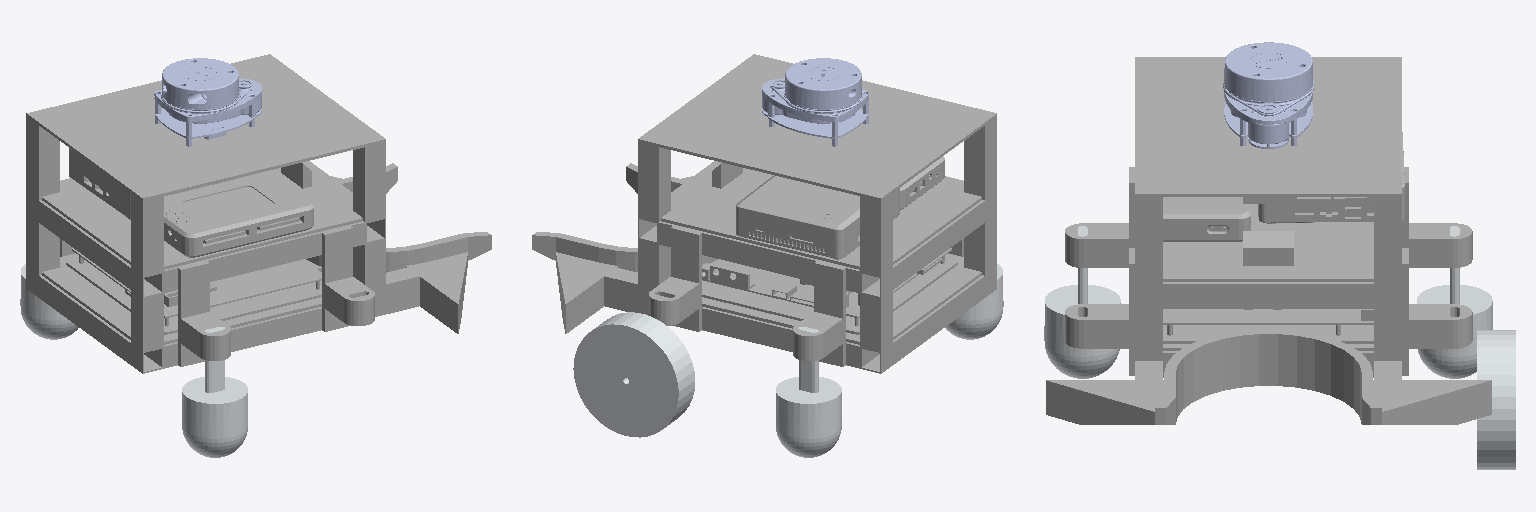
The robot description file, URDF, robot "lide":
<?xml version="1.0" encoding="utf-8"?>
<!-- This URDF was automatically created by SolidWorks to URDF Exporter! Originally created by [author] ([email redacted]) 
     Commit Version: 1.5.1-0-g916b5db  Build Version: 1.5.7152.31018
     For more information, please see http://wiki.ros.org/sw_urdf_exporter -->
<robot
  name="lide">
  <link
    name="base_link">
    <inertial>
      <origin
        xyz="-0.115292956366824 0.084514802426533 0.0487749858686272"
        rpy="0 0 0" />
      <mass
        value="3.02671603377095" />
      <inertia
        ixx="0.00739124739975595"
        ixy="-5.47577884760028E-07"
        ixz="-1.15986515098171E-05"
        iyy="0.00565331554554454"
        iyz="-3.00885497222282E-07"
        izz="0.0123323749500454" />
    </inertial>
    <visual>
      <origin
        xyz="0 0 0"
        rpy="0 0 0" />
      <geometry>
        <mesh
          filename="package://lide/meshes/base_link.STL" />
      </geometry>
      <material
        name="">
        <color
          rgba="0.752941176470588 0.752941176470588 0.752941176470588 1" />
      </material>
    </visual>
    <collision>
      <origin
        xyz="0 0 0"
        rpy="0 0 0" />
      <geometry>
        <mesh
          filename="package://lide/meshes/base_link.STL" />
      </geometry>
    </collision>
  </link>
  <link
    name="LFS">
    <inertial>
      <origin
        xyz="0.0455604268709419 0.00830943309140332 0.00297622851896683"
        rpy="0 0 0" />
      <mass
        value="0.0727928435161986" />
      <inertia
        ixx="2.20927876796312E-05"
        ixy="-1.64845302056338E-08"
        ixz="-1.56454773175214E-07"
        iyy="1.62632133784213E-05"
        iyz="2.9641187651093E-09"
        izz="1.80843397531752E-05" />
    </inertial>
    <visual>
      <origin
        xyz="0 0 0"
        rpy="0 0 0" />
      <geometry>
        <mesh
          filename="package://lide/meshes/LFS.STL" />
      </geometry>
      <material
        name="">
        <color
          rgba="0.752941176470588 0.752941176470588 0.752941176470588 1" />
      </material>
    </visual>
    <collision>
      <origin
        xyz="0 0 0"
        rpy="0 0 0" />
      <geometry>
        <mesh
          filename="package://lide/meshes/LFS.STL" />
      </geometry>
    </collision>
  </link>
  <joint
    name="LFS"
    type="fixed">
    <origin
      xyz="-0.054044 0.1834 -0.036503"
      rpy="1.5708 0 1.5708" />
    <parent
      link="base_link" />
    <child
      link="LFS" />
    <axis
      xyz="0 0 0" />
  </joint>
  <link
    name="LFW">
    <inertial>
      <origin
        xyz="0.015 0 1.73472347597681E-18"
        rpy="0 0 0" />
      <mass
        value="0.767080911081153" />
      <inertia
        ixx="0.00116426102407189"
        ixy="4.45758864315271E-22"
        ixz="-1.82994146746971E-20"
        iyy="0.000639661580367031"
        iyz="-1.35525271560688E-20"
        izz="0.000639661580367032" />
    </inertial>
    <visual>
      <origin
        xyz="0 0 0"
        rpy="0 0 0" />
      <geometry>
        <mesh
          filename="package://lide/meshes/LFW.STL" />
      </geometry>
      <material
        name="">
        <color
          rgba="0.898039215686275 0.917647058823529 0.929411764705882 1" />
      </material>
    </visual>
    <collision>
      <origin
        xyz="0 0 0"
        rpy="0 1.5708 0" />
      <geometry>
        <cylinder length="0.03" radius="0.055"/>
      </geometry>
    </collision>
  </link>
  <joint
    name="LFW"
    type="continuous">
    <origin
      xyz="0.063346 -0.006798 0.015044"
      rpy="-1.6264 0 0" />
    <parent
      link="LFS" />
    <child
      link="LFW" />
    <axis
      xyz="1 0 0" />
    <limit
      effort="3.1"
      velocity="7" />
  </joint>
  <link
    name="RFS">
    <inertial>
      <origin
        xyz="-0.0191828308457407 -0.00900932874707057 0.0520056318885905"
        rpy="0 0 0" />
      <mass
        value="0.0727928435161986" />
      <inertia
        ixx="2.20927876796312E-05"
        ixy="-1.64845302056307E-08"
        ixz="1.56454773175211E-07"
        iyy="1.62632133784213E-05"
        iyz="-2.96411876510623E-09"
        izz="1.80843397531752E-05" />
    </inertial>
    <visual>
      <origin
        xyz="0 0 0"
        rpy="0 0 0" />
      <geometry>
        <mesh
          filename="package://lide/meshes/RFS.STL" />
      </geometry>
      <material
        name="">
        <color
          rgba="0.752941176470588 0.752941176470588 0.752941176470588 1" />
      </material>
    </visual>
    <collision>
      <origin
        xyz="0 0 0"
        rpy="0 0 0" />
      <geometry>
        <mesh
          filename="package://lide/meshes/RFS.STL" />
      </geometry>
    </collision>
  </link>
  <joint
    name="RFS"
    type="fixed">
    <origin
      xyz="-0.10307 -0.043781 -0.019216"
      rpy="1.5708 0 1.5708" />
    <parent
      link="base_link" />
    <child
      link="RFS" />
    <axis
      xyz="0 0 0" />
  </joint>
  <link
    name="RFW">
    <inertial>
      <origin
        xyz="-0.015 -1.0842021724855E-19 0"
        rpy="0 0 0" />
      <mass
        value="0.767080911081152" />
      <inertia
        ixx="0.00116426102407189"
        ixy="-4.95911679253153E-37"
        ixz="0"
        iyy="0.000639661580367031"
        iyz="-2.21718708608611E-36"
        izz="0.000639661580367031" />
    </inertial>
    <visual>
      <origin
        xyz="0 0 0"
        rpy="0 0 0" />
      <geometry>
        <mesh
          filename="package://lide/meshes/RFW.STL" />
      </geometry>
      <material
        name="">
        <color
          rgba="0.898039215686275 0.917647058823529 0.929411764705882 1" />
      </material>
    </visual>
    <collision>
      <origin
        xyz="0 0 0"
        rpy="0 1.5708 0" />
      <geometry>
        <cylinder length="0.03" radius="0.055"/>
      </geometry>
    </collision>
  </link>
  <joint
    name="RFW"
    type="continuous">
    <origin
      xyz="-0.036969 -0.024084 0.064073"
      rpy="0 0 0" />
    <parent
      link="RFS" />
    <child
      link="RFW" />
    <axis
      xyz="1 0 0" />
    <limit
      effort="3.1"
      velocity="7" />
  </joint>
  <link
    name="LBS">
    <inertial>
      <origin
        xyz="0 -0.0450291457089083 0"
        rpy="0 0 0" />
      <mass
        value="0.442042052280736" />
      <inertia
        ixx="0.00028466325059699"
        ixy="-1.31249638955093E-22"
        ixz="-6.2053433167164E-22"
        iyy="0.000175308591947339"
        iyz="1.56576493158039E-21"
        izz="0.000284100534303298" />
    </inertial>
    <visual>
      <origin
        xyz="0 0 0"
        rpy="0 0 0" />
      <geometry>
        <mesh
          filename="package://lide/meshes/LBS.STL" />
      </geometry>
      <material
        name="">
        <color
          rgba="0.898039215686275 0.917647058823529 0.929411764705882 1" />
      </material>
    </visual>
    <collision>
      <origin
        xyz="0 0 0"
        rpy="0 0 0" />
      <geometry>
        <mesh
          filename="package://lide/meshes/LBS.STL" />
      </geometry>
    </collision>
  </link>
  <joint
    name="LBS"
    type="fixed">
    <origin
      xyz="-0.202 0.229000000000001 -0.0132257627018706"
      rpy="1.5707963267949 0 1.5707963267949" />
    <parent
      link="base_link" />
    <child
      link="LBS" />
    <axis
      xyz="0 0 0" />
  </joint>
  <link
    name="RBS">
    <inertial>
      <origin
        xyz="6.93889390390723E-18 -0.0450291457089083 0"
        rpy="0 0 0" />
      <mass
        value="0.442042052280736" />
      <inertia
        ixx="0.00028466325059699"
        ixy="-1.24713258277564E-21"
        ixz="-4.8787092274987E-23"
        iyy="0.000175308591947339"
        iyz="1.43169191106245E-21"
        izz="0.000284100534303298" />
    </inertial>
    <visual>
      <origin
        xyz="0 0 0"
        rpy="0 0 0" />
      <geometry>
        <mesh
          filename="package://lide/meshes/RBS.STL" />
      </geometry>
      <material
        name="">
        <color
          rgba="0.898039215686275 0.917647058823529 0.929411764705882 1" />
      </material>
    </visual>
    <collision>
      <origin
        xyz="0 0 0"
        rpy="0 0 0" />
      <geometry>
        <mesh
          filename="package://lide/meshes/RBS.STL" />
      </geometry>
    </collision>
  </link>
  <joint
    name="RBS"
    type="fixed">
    <origin
      xyz="-0.202 -0.063 -0.013226"
      rpy="1.5708 0 1.5708" />
    <parent
      link="base_link" />
    <child
      link="RBS" />
    <axis
      xyz="0 0 0" />
  </joint>
  <link
    name="fcam">
    <inertial>
      <origin
        xyz="-0.0115544746517359 -2.64429642851671E-06 0.00129029302682179"
        rpy="0 0 0" />
      <mass
        value="0.0436119957238951" />
      <inertia
        ixx="2.35707061906176E-05"
        ixy="-1.01842273867703E-09"
        ixz="2.17585832536704E-08"
        iyy="4.29479050056029E-06"
        iyz="-8.85018118703458E-10"
        izz="2.21058153511886E-05" />
    </inertial>
    <visual>
      <origin
        xyz="0 0 0"
        rpy="0 0 0" />
      <geometry>
        <mesh
          filename="package://lide/meshes/fcam.STL" />
      </geometry>
      <material
        name="">
        <color
          rgba="0.792156862745098 0.819607843137255 0.933333333333333 1" />
      </material>
    </visual>
    <collision>
      <origin
        xyz="0 0 0"
        rpy="0 0 0" />
      <geometry>
        <mesh
          filename="package://lide/meshes/fcam.STL" />
      </geometry>
    </collision>
  </link>
  <joint
    name="fcam"
    type="fixed">
    <origin
      xyz="-0.0038823 0.083 0.12982"
      rpy="0 0.2618 0" />
    <parent
      link="base_link" />
    <child
      link="fcam" />
    <axis
      xyz="0 0 0" />
  </joint>
  <link
    name="bcam">
    <inertial>
      <origin
        xyz="-0.0201034645299101 -2.64354903262154E-06 -0.007258695056636"
        rpy="0 0 0" />
      <mass
        value="0.0436119949785284" />
      <inertia
        ixx="2.357070560996E-05"
        ixy="-1.01834758005787E-09"
        ixz="2.17579332532715E-08"
        iyy="4.29479078276664E-06"
        iyz="-8.8548450394161E-10"
        izz="2.21058144654637E-05" />
    </inertial>
    <visual>
      <origin
        xyz="0 0 0"
        rpy="0 0 0" />
      <geometry>
        <mesh
          filename="package://lide/meshes/bcam.STL" />
      </geometry>
      <material
        name="">
        <color
          rgba="0.792156862745098 0.819607843137255 0.933333333333333 1" />
      </material>
    </visual>
    <collision>
      <origin
        xyz="0 0 0"
        rpy="0 0 0" />
      <geometry>
        <mesh
          filename="package://lide/meshes/bcam.STL" />
      </geometry>
    </collision>
  </link>
  <joint
    name="bcam"
    type="fixed">
    <origin
      xyz="0 0.0829999999999999 0.0912322330470338"
      rpy="0 0.785398163397446 0" />
    <parent
      link="base_link" />
    <child
      link="bcam" />
    <axis
      xyz="0 0 0" />
  </joint>
  <link
    name="Lidar">
    <inertial>
      <origin
        xyz="0.0135233596906928 0.000461955948183379 -0.0287648855051702"
        rpy="0 0 0" />
      <mass
        value="0.0730845715012249" />
      <inertia
        ixx="1.95808757046811E-05"
        ixy="-1.03933623506737E-07"
        ixz="-4.28391185369262E-07"
        iyy="2.41250077836737E-05"
        iyz="9.42710781612655E-09"
        izz="4.1418451419586E-05" />
    </inertial>
    <visual>
      <origin
        xyz="0 0 0"
        rpy="0 0 0" />
      <geometry>
        <mesh
          filename="package://lide/meshes/Lidar.STL" />
      </geometry>
      <material
        name="">
        <color
          rgba="0.792156862745098 0.819607843137255 0.933333333333333 1" />
      </material>
    </visual>
    <collision>
      <origin
        xyz="0 0 0"
        rpy="0 0 0" />
      <geometry>
        <mesh
          filename="package://lide/meshes/Lidar.STL" />
      </geometry>
    </collision>
  </link>
  <joint
    name="Lidar"
    type="fixed">
    <origin
      xyz="-0.13458 0.082006 0.2065"
      rpy="0 0 0" />
    <parent
      link="base_link" />
    <child
      link="Lidar" />
    <axis
      xyz="0 0 0" />
  </joint>
  <link
    name="imu_link">
    <inertial>
      <origin
        xyz="0.00291084634946051 6.23984008059353E-05 -0.00103377575234337"
        rpy="0 0 0" />
      <mass
        value="0.00189180567975737" />
      <inertia
        ixx="7.79431263454134E-08"
        ixy="1.3921419055649E-10"
        ixz="1.54511633252894E-11"
        iyy="4.85473464623124E-08"
        iyz="-6.30099051334842E-11"
        izz="1.25233585370532E-07" />
    </inertial>
    <visual>
      <origin
        xyz="0 0 0"
        rpy="0 0 0" />
      <geometry>
        <mesh
          filename="package://lide/meshes/imu_link.STL" />
      </geometry>
      <material
        name="">
        <color
          rgba="0.898039215686275 0.917647058823529 0.929411764705882 1" />
      </material>
    </visual>
    <collision>
      <origin
        xyz="0 0 0"
        rpy="0 0 0" />
      <geometry>
        <mesh
          filename="package://lide/meshes/imu_link.STL" />
      </geometry>
    </collision>
  </link>
  <joint
    name="imu_link"
    type="fixed">
    <origin
      xyz="-0.040625 0.083 0.155"
      rpy="0 0 0" />
    <parent
      link="base_link" />
    <child
      link="imu_link" />
    <axis
      xyz="0 0 0" />
  </joint>
</robot>

--- What the picture shows (computed from the rendered views, not written in the file) ---
3 views of the same robot in one strip: view 1: azimuth 30°, elevation 25°; view 2: azimuth 150°, elevation 25°; view 3: azimuth 270°, elevation 25° (orthographic).
Model lide with 11 links and 10 joints (2 continuous, 8 fixed), rooted at base_link, posed all joints at 0.
Links seen in each view (by area): view 1: base_link, Lidar, RBS, LBS; view 2: base_link, LFW, Lidar, LBS, RBS; view 3: base_link, Lidar, LFW, RBS, LBS.
Boxes of the visible links, <box> form: base_link: <box>26,54,491,373</box>; Lidar: <box>154,58,261,146</box>; RBS: <box>182,327,247,457</box>; LBS: <box>20,264,78,339</box>; base_link: <box>532,54,996,373</box>; LFW: <box>573,312,694,437</box>; Lidar: <box>762,58,868,146</box>; LBS: <box>776,327,841,457</box>; RBS: <box>945,264,1003,339</box>; base_link: <box>1046,57,1491,424</box>; Lidar: <box>1223,42,1313,148</box>; LFW: <box>1477,330,1515,469</box>; RBS: <box>1044,226,1120,378</box>; LBS: <box>1417,226,1492,378</box>.
Bounding box of the posed robot: 0.373 × 0.3697 × 0.3048 m (x, y, z).
Meshes: 11 distinct files referenced, 5 mesh visuals loaded (5 binary STL); not drawn: 6 (reference not matched to a file when rendering).